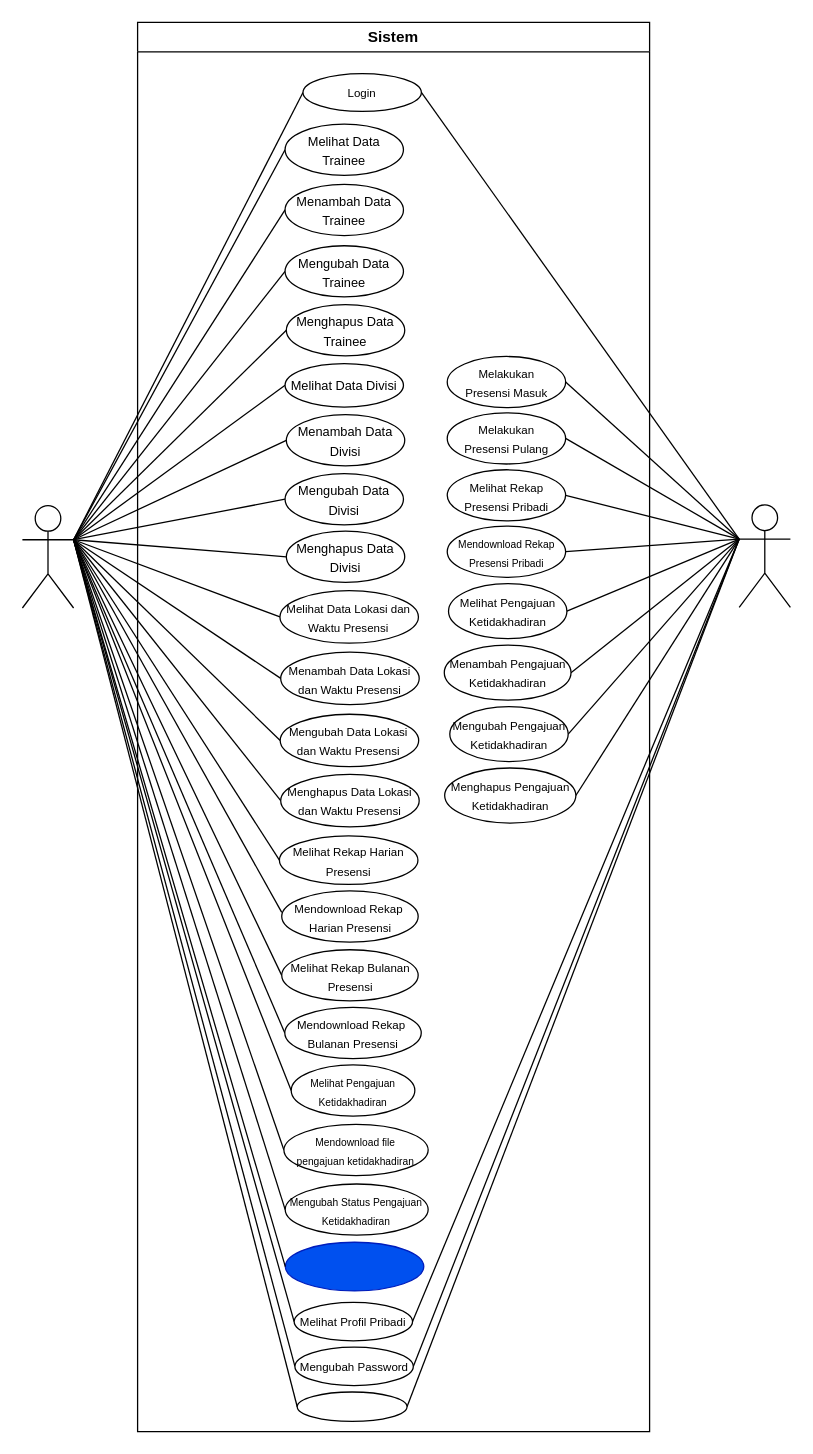
Some shapes in this 813 by 1454 pixel diagram are drawn without their labels. The shapes that lost their labels are listed below. From the top down, each one's box as (x1, y1, x2, y2) in pixels, then its label:
(21, 504, 74, 608): Admin
(738, 504, 790, 607): Trainee
(284, 1241, 424, 1291): Melihat Dashboard Monitoring
(296, 1391, 407, 1421): Logout
